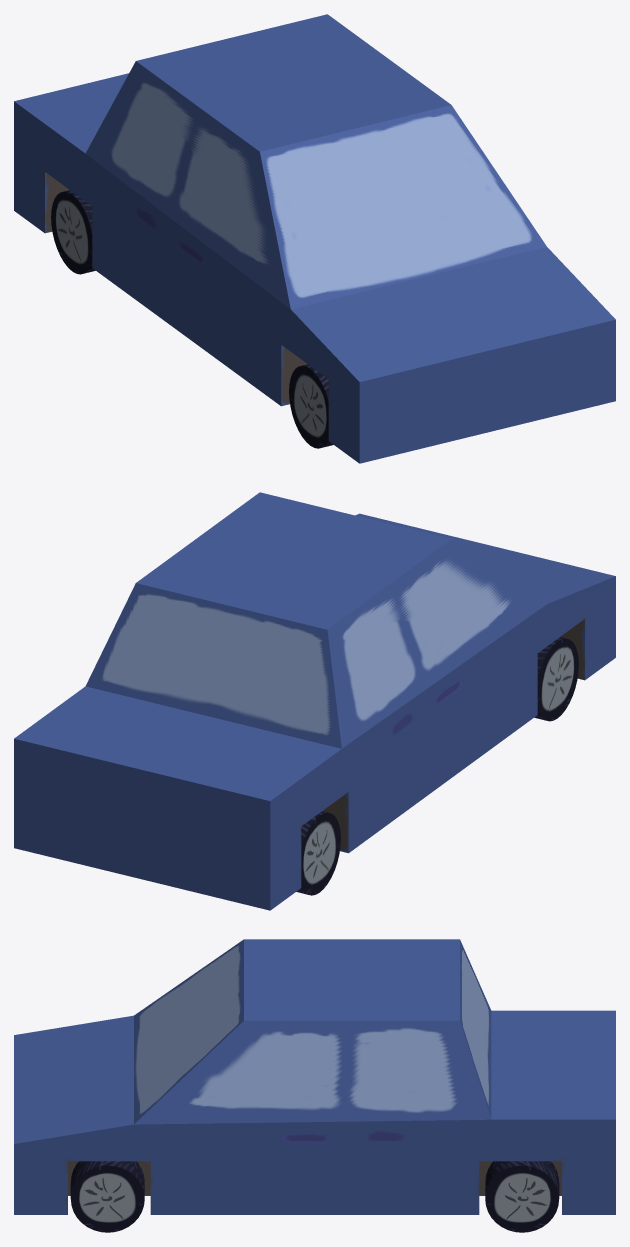
Rendered from Car.fbx.
3 renders of one model, top to bottom at view 1: azimuth 30°, elevation 25°; view 2: azimuth 150°, elevation 25°; view 3: azimuth 270°, elevation 25°, orthographic. The views are drawn at different scales.
Parts seen in each view (by area): view 1: Car, Tires; view 2: Car, Tires; view 3: Car, Tires.
Boxes of the visible parts, x1=… form: Car: x1=14, y1=14, x2=615, y2=463; Tires: x1=51, y1=190, x2=333, y2=448; Car: x1=14, y1=492, x2=615, y2=910; Tires: x1=296, y1=637, x2=578, y2=895; Car: x1=14, y1=939, x2=615, y2=1214; Tires: x1=70, y1=1161, x2=559, y2=1232.
Bounding box in the file's own units: 200 × 467 × 171.
Materials: 2 (2 with a texture image).
